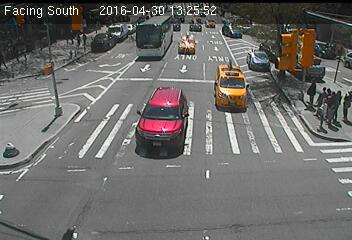neg: (124, 86, 168, 144), (196, 161, 229, 204), (193, 69, 222, 108), (158, 32, 183, 65), (96, 36, 117, 65), (62, 40, 83, 68), (4, 134, 25, 162), (42, 80, 59, 102)
pos: (299, 76, 319, 102), (315, 98, 334, 123)
